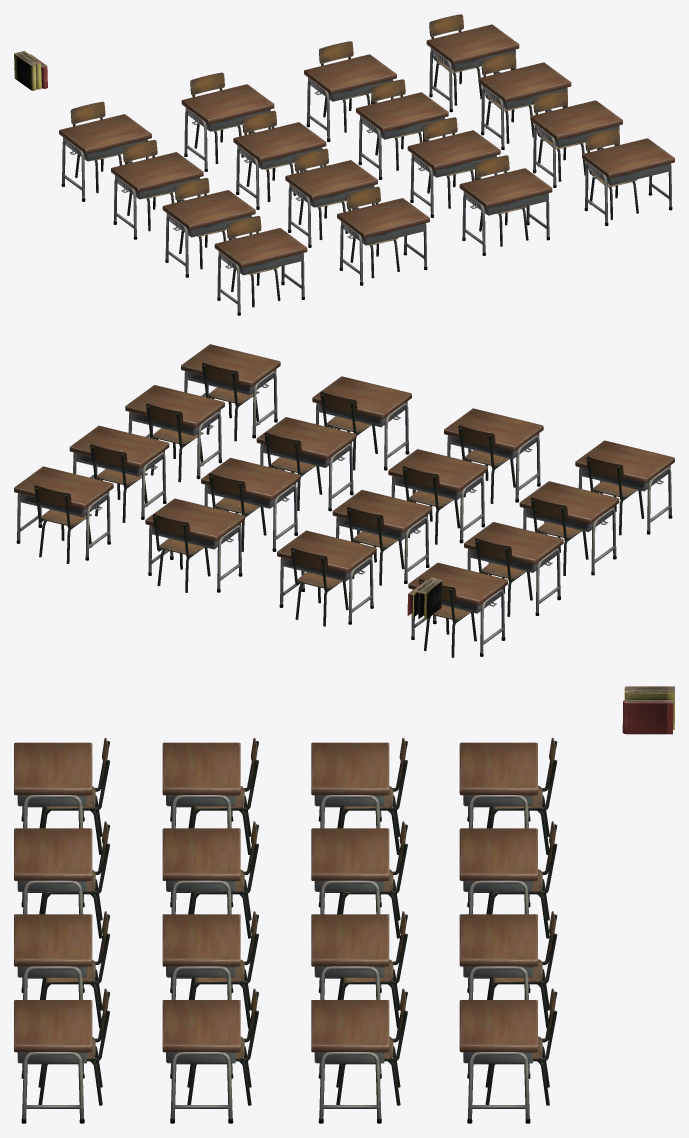
The model's file is desk01.fbx.
3 views of the same model, one above another, from view 1: azimuth 30°, elevation 25°; view 2: azimuth 150°, elevation 25°; view 3: azimuth 270°, elevation 25° (orthographic). The views are drawn at different scales.
Parts seen in each view (by area): view 1: Cube, chair.003|chair_L_chair.blend|Dupli|, chair.002|chair_L_chair.blend|Dupli|, chair.001|chair_L_chair.blend|Dupli|, chair|chair_L_chair.blend|Dupli|, chair.013|chair_L_chair.blend|Dupli|, chair.018|chair_L_chair.blend|Dupli|, chair.008|chair_L_chair.blend|Dupli|, chair.012|chair_L_chair.blend|Dupli|, chair.011|chair_L_chair.blend|Dupli|, chair.010|chair_L_chair.blend|Dupli|, chair.017|chair_L_chair.blend|Dupli| (+6 smaller); view 2: Cube, chair.010|chair_L_chair.blend|Dupli|, chair.005|chair_L_chair.blend|Dupli|, chair|chair_L_chair.blend|Dupli|, chair.002|chair_L_chair.blend|Dupli|, chair.003|chair_L_chair.blend|Dupli|, chair.011|chair_L_chair.blend|Dupli|, chair.001|chair_L_chair.blend|Dupli|, chair.013|chair_L_chair.blend|Dupli|, chair.012|chair_L_chair.blend|Dupli|, chair.016|chair_L_chair.blend|Dupli|, chair.017|chair_L_chair.blend|Dupli| (+6 smaller); view 3: Cube, polySurface1, chair.005|chair_L_chair.blend|Dupli|, chair.006|chair_L_chair.blend|Dupli|, chair.007|chair_L_chair.blend|Dupli|, chair.008|chair_L_chair.blend|Dupli|, chair.015|chair_L_chair.blend|Dupli|, chair.016|chair_L_chair.blend|Dupli|, chair.017|chair_L_chair.blend|Dupli|, chair.018|chair_L_chair.blend|Dupli|, chair.010|chair_L_chair.blend|Dupli|, chair.011|chair_L_chair.blend|Dupli| (+6 smaller).
Boxes of the visible parts, left/top/right/bottom form: Cube: left=59, top=24, right=674, bottom=315; chair.003|chair_L_chair.blend|Dupli|: left=585, top=128, right=638, bottom=219; chair.002|chair_L_chair.blend|Dupli|: left=533, top=90, right=585, bottom=181; chair.001|chair_L_chair.blend|Dupli|: left=481, top=52, right=533, bottom=143; chair|chair_L_chair.blend|Dupli|: left=429, top=14, right=481, bottom=105; chair.013|chair_L_chair.blend|Dupli|: left=346, top=186, right=399, bottom=278; chair.018|chair_L_chair.blend|Dupli|: left=226, top=216, right=280, bottom=307; chair.008|chair_L_chair.blend|Dupli|: left=474, top=155, right=528, bottom=246; chair.012|chair_L_chair.blend|Dupli|: left=294, top=148, right=347, bottom=239; chair.011|chair_L_chair.blend|Dupli|: left=242, top=110, right=295, bottom=201; chair.010|chair_L_chair.blend|Dupli|: left=190, top=72, right=243, bottom=163; chair.017|chair_L_chair.blend|Dupli|: left=174, top=178, right=226, bottom=269; Cube: left=14, top=344, right=674, bottom=656; chair.010|chair_L_chair.blend|Dupli|: left=291, top=547, right=348, bottom=626; chair.005|chair_L_chair.blend|Dupli|: left=153, top=514, right=210, bottom=592; chair|chair_L_chair.blend|Dupli|: left=34, top=485, right=91, bottom=563; chair.002|chair_L_chair.blend|Dupli|: left=146, top=403, right=203, bottom=482; chair.003|chair_L_chair.blend|Dupli|: left=202, top=362, right=259, bottom=441; chair.011|chair_L_chair.blend|Dupli|: left=347, top=506, right=404, bottom=585; chair.001|chair_L_chair.blend|Dupli|: left=90, top=444, right=147, bottom=522; chair.013|chair_L_chair.blend|Dupli|: left=458, top=425, right=515, bottom=503; chair.012|chair_L_chair.blend|Dupli|: left=402, top=466, right=460, bottom=544; chair.016|chair_L_chair.blend|Dupli|: left=475, top=538, right=532, bottom=616; chair.017|chair_L_chair.blend|Dupli|: left=531, top=497, right=588, bottom=575; Cube: left=14, top=742, right=537, bottom=1123; polySurface1: left=622, top=699, right=673, bottom=734; chair.005|chair_L_chair.blend|Dupli|: left=487, top=911, right=557, bottom=1028; chair.006|chair_L_chair.blend|Dupli|: left=337, top=911, right=407, bottom=1028; chair.007|chair_L_chair.blend|Dupli|: left=188, top=911, right=258, bottom=1028; chair.008|chair_L_chair.blend|Dupli|: left=40, top=911, right=109, bottom=1028; chair.015|chair_L_chair.blend|Dupli|: left=486, top=738, right=557, bottom=854; chair.016|chair_L_chair.blend|Dupli|: left=337, top=738, right=407, bottom=854; chair.017|chair_L_chair.blend|Dupli|: left=188, top=738, right=258, bottom=854; chair.018|chair_L_chair.blend|Dupli|: left=39, top=738, right=109, bottom=854; chair.010|chair_L_chair.blend|Dupli|: left=486, top=821, right=557, bottom=938; chair.011|chair_L_chair.blend|Dupli|: left=337, top=821, right=407, bottom=938.
Size of the model in its own units: 662 by 140 by 607.
